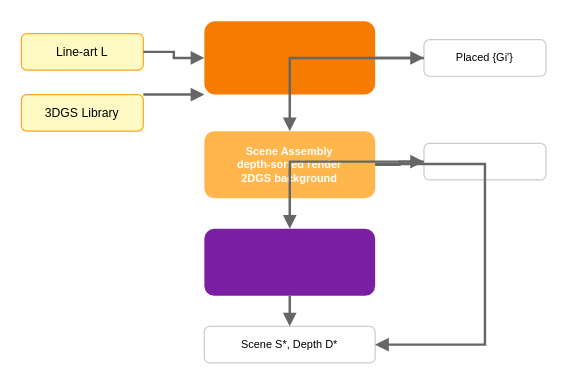
The diagram is 567 pixels wide and 384 high, and some of its shapes have lost their labels. The centre of each missing label's shape, as x and y in pixels:
"Contour Register IoU + Chamfer loss rigid (theta, t, s)" belongs at pixel 289 57.
"Depth Inpaint SD + Depth ControlNet fill disocclusions" belongs at pixel 289 261.
"Gaps Omega_gap" belongs at pixel 484 161.
